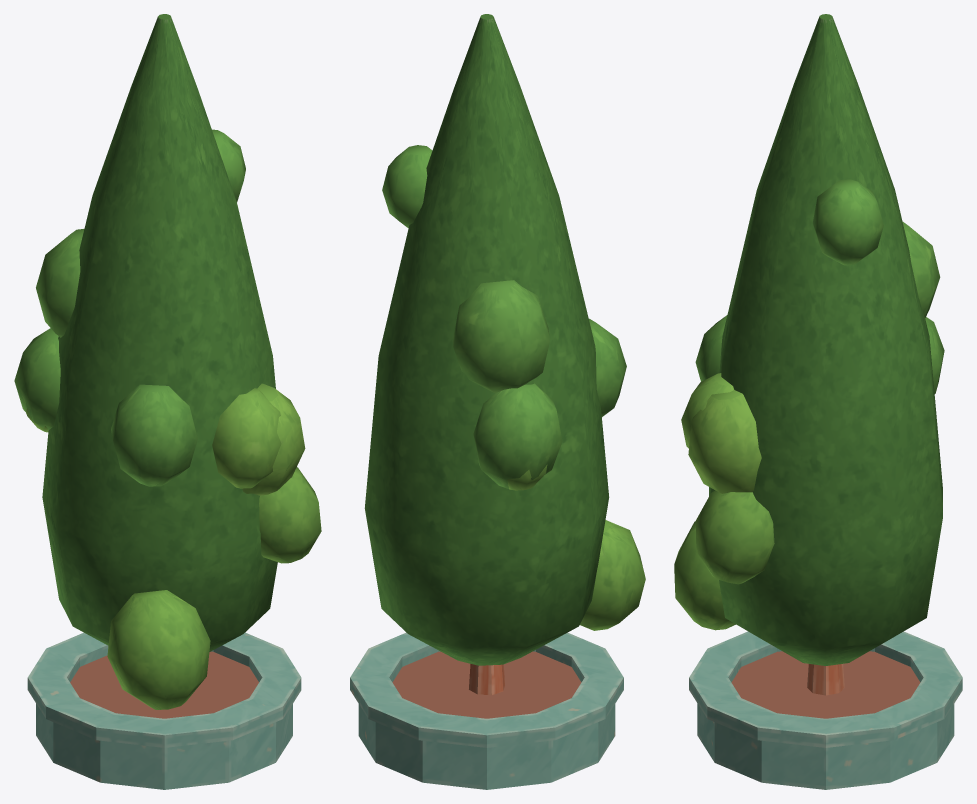
Rendered from cypress.fbx.
3 views of the same model, side by side, from view 1: azimuth 30°, elevation 25°; view 2: azimuth 150°, elevation 25°; view 3: azimuth 270°, elevation 25° (orthographic).
Parts seen in each view (by area): view 1: cypress; view 2: cypress; view 3: cypress.
Boxes of the visible parts, x1,y1,x2,y2 form: cypress: (14,14,321,789); cypress: (350,14,645,789); cypress: (674,14,962,789).
Bounding box in the file's own units: 4.9 × 14.2 × 5.17.
Materials: 1 (1 with a texture image).
